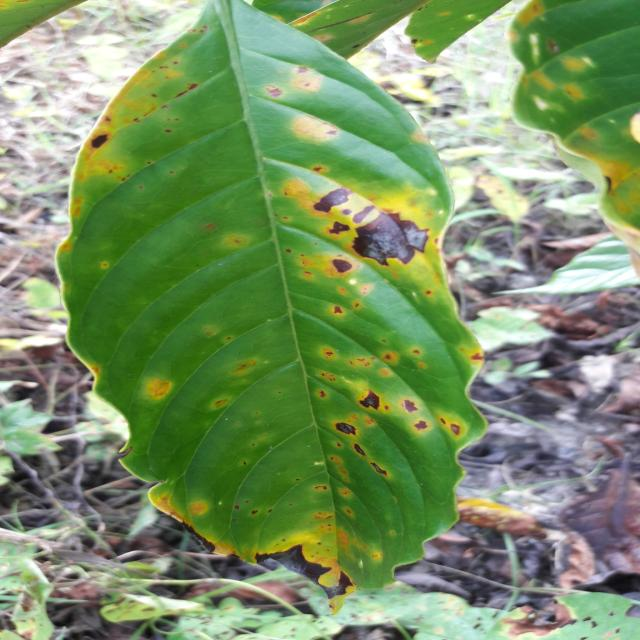Enfermedad-Roya: (60, 0, 487, 594)
